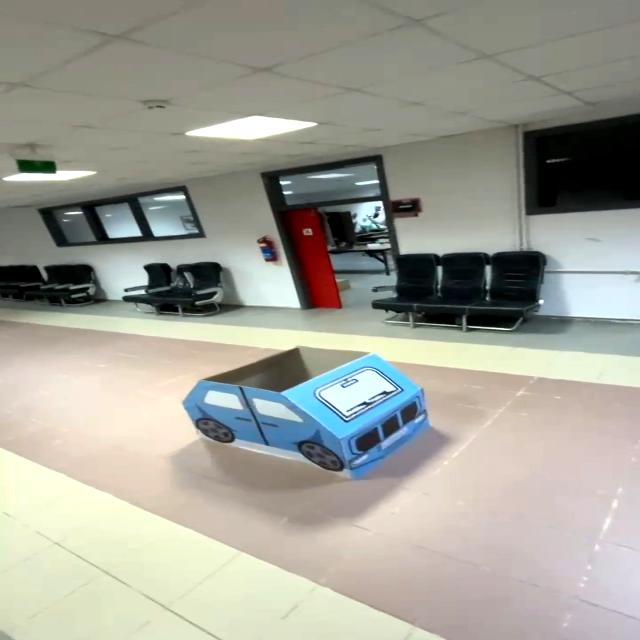blue_car: (164, 333, 437, 500)
